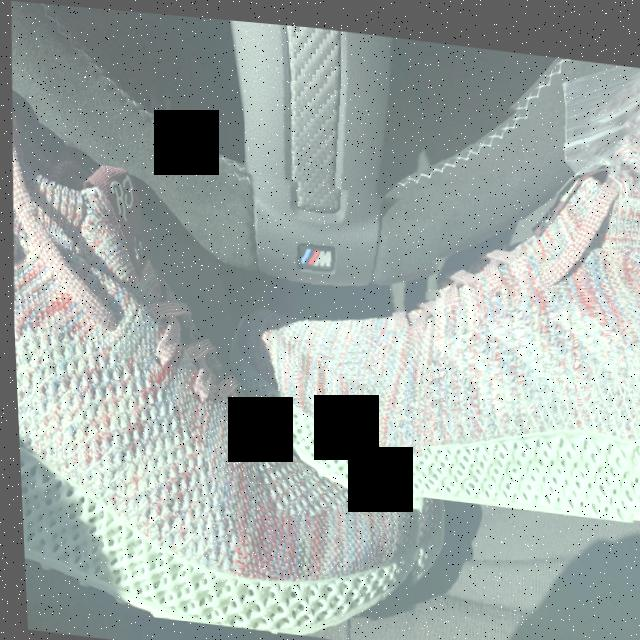shoe: (5, 133, 456, 640), (229, 59, 640, 514)
